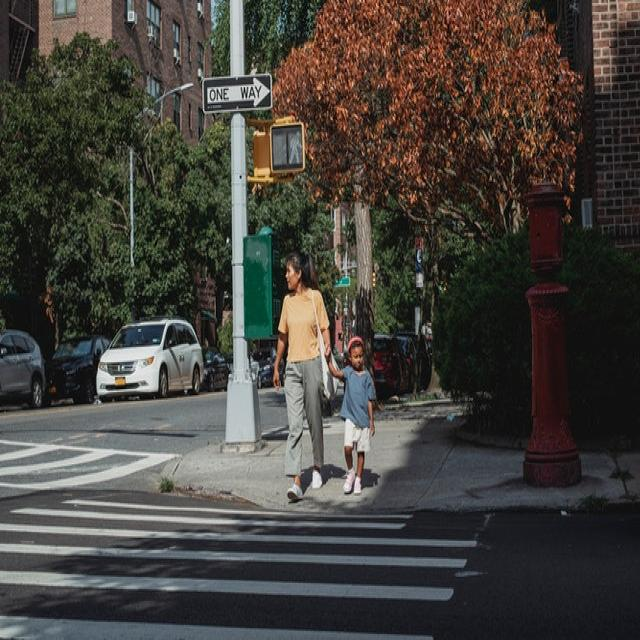Pedestrian crosswalk: (1, 493, 484, 637)
Person: (275, 250, 336, 504), (336, 325, 380, 502)
